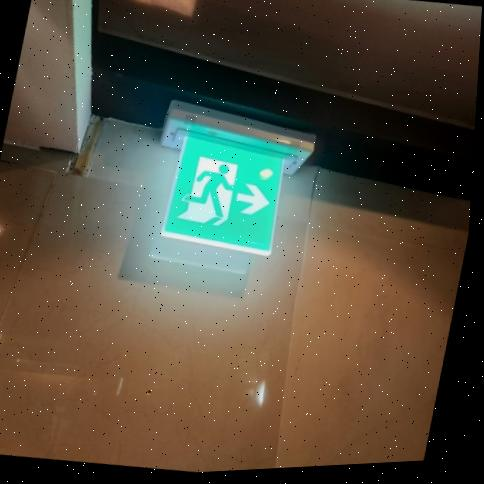emergency_exit: (160, 128, 289, 257)
